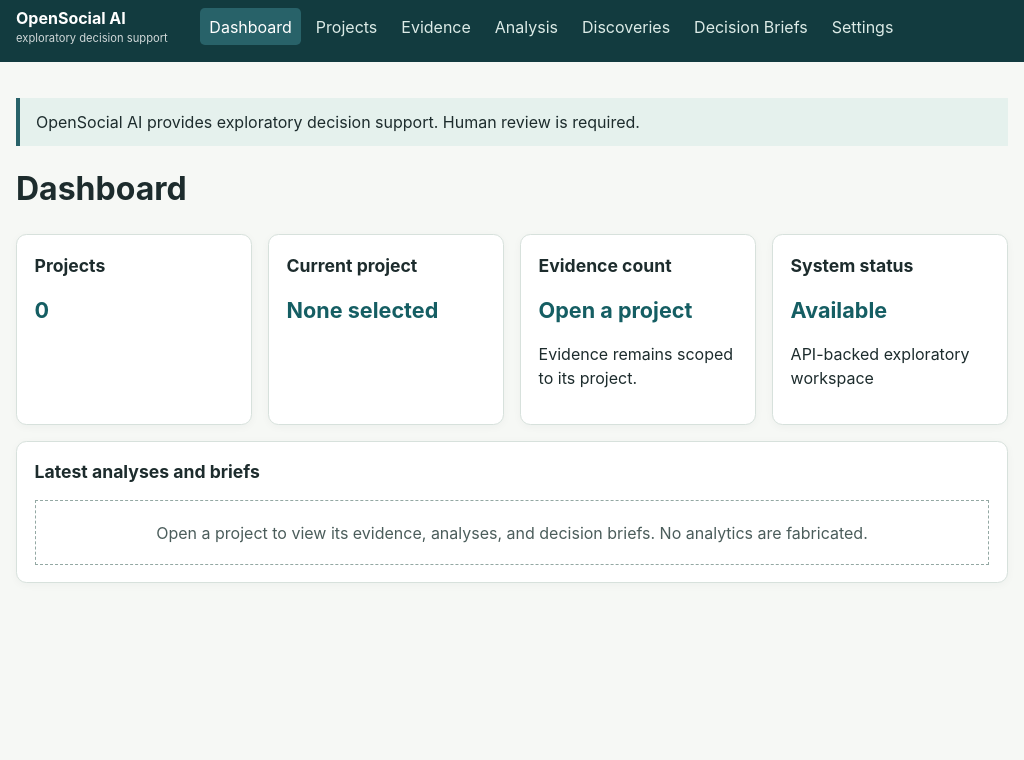
Test: web MVP › shows the responsible-AI label and project empty state
Expected: the text "OpenSocial AI provides exploratory decision support. Human review is required." is shown, [16, 98, 1008, 146]
Click the link "Projects" at point(347, 27), box [316, 17, 377, 37]
(page scrolled)
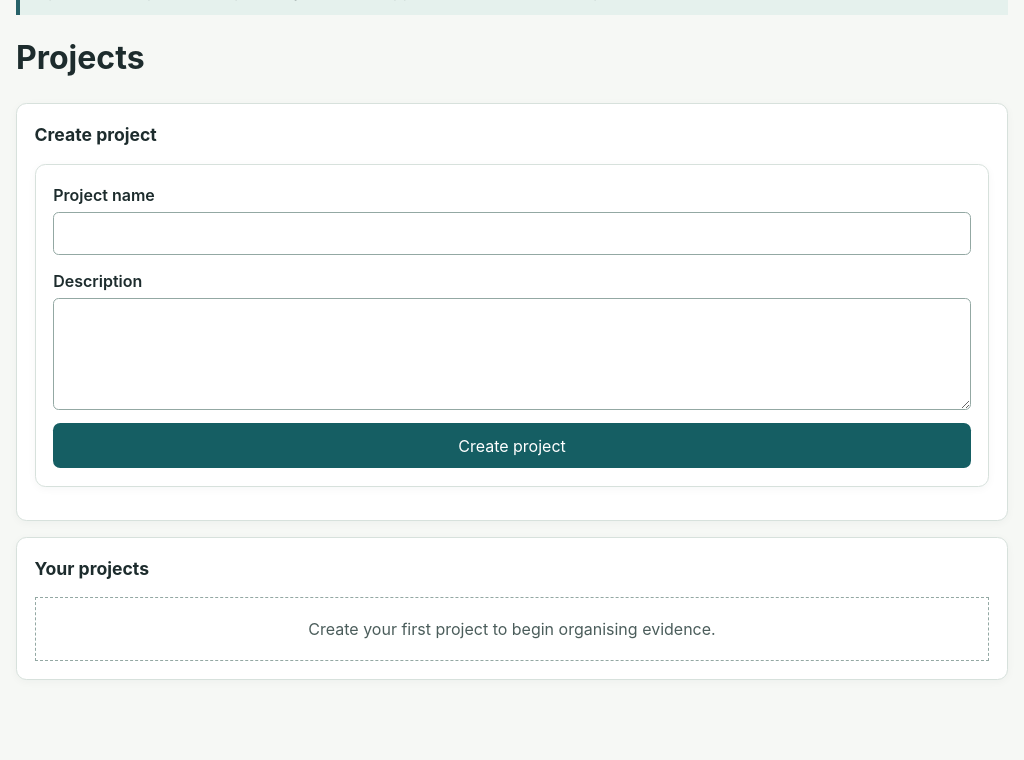
Now the text "Create your first project to begin organising evidence." is shown, box [35, 597, 989, 661]
